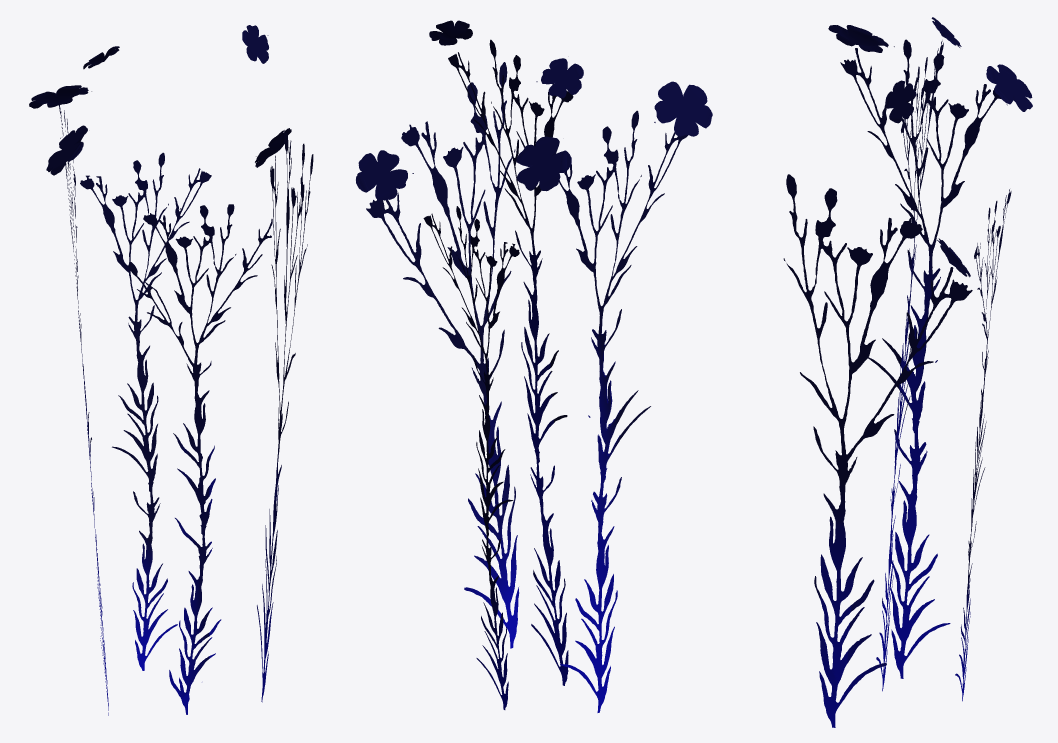
The model's file is SM_Foliage_FlaxA_05.fbx.
3 renders of one model, left to right at view 1: azimuth 30°, elevation 25°; view 2: azimuth 150°, elevation 25°; view 3: azimuth 270°, elevation 25°, orthographic. The views are drawn at different scales.
Parts seen in each view (by area): view 1: SM_Foliage_FlaxA_05; view 2: SM_Foliage_FlaxA_05; view 3: SM_Foliage_FlaxA_05.
Part boxes in pixels (x1,y1,x2,y2): SM_Foliage_FlaxA_05: (29, 25, 313, 715); SM_Foliage_FlaxA_05: (356, 20, 712, 712); SM_Foliage_FlaxA_05: (783, 17, 1032, 727).
Bounding box in the file's own units: 52.86 × 42.67 × 109.
